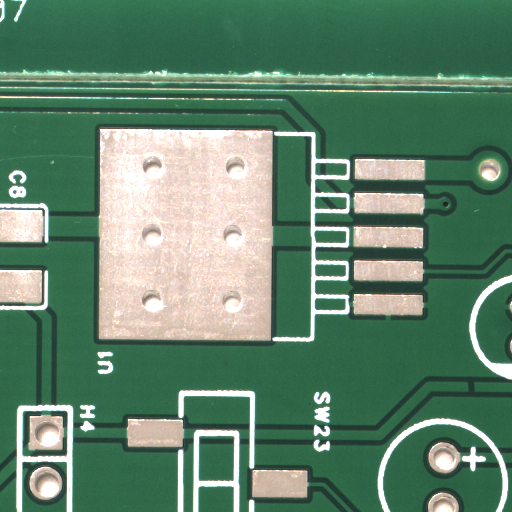Open_circuit: (471, 387, 478, 397)
